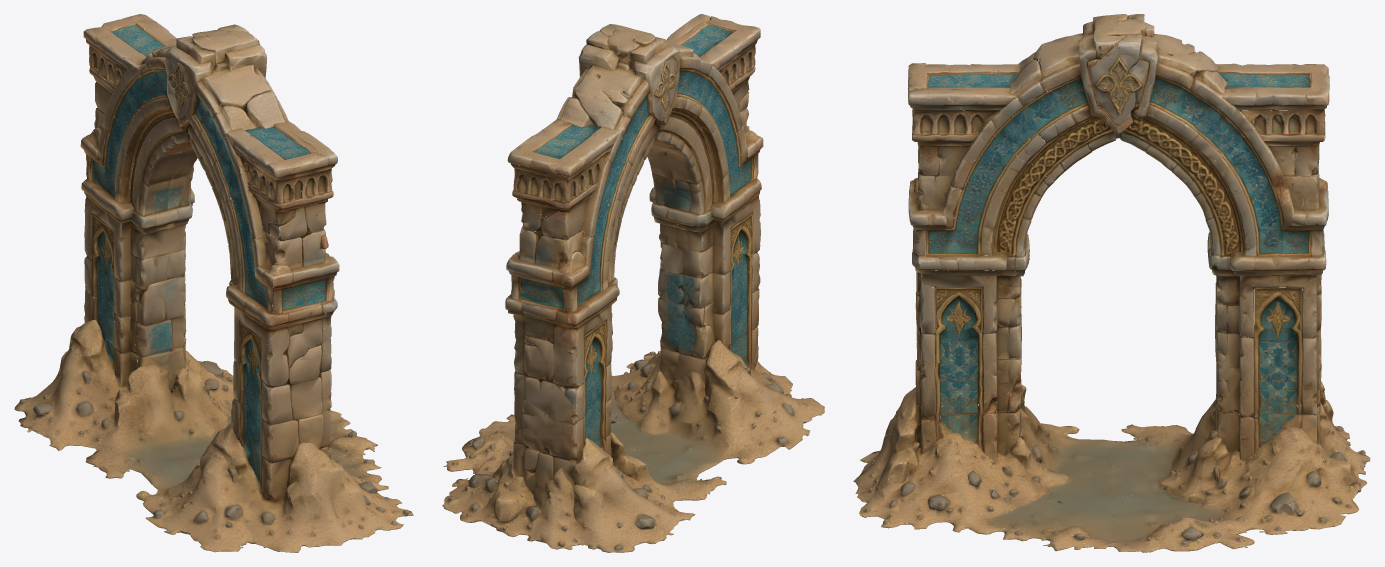
File: sunken-arch-tripo.glb
3 renders of one model, left to right at view 1: azimuth 30°, elevation 25°; view 2: azimuth 150°, elevation 25°; view 3: azimuth 270°, elevation 25°, orthographic. The views are drawn at different scales.
Visible parts, largest first — view 1: tripo_node_f235b97d-c3d6-44e6-abf1-08d5b7b909d5; view 2: tripo_node_f235b97d-c3d6-44e6-abf1-08d5b7b909d5; view 3: tripo_node_f235b97d-c3d6-44e6-abf1-08d5b7b909d5.
Boxes of the visible parts, x1,y1,x2,y2 form: tripo_node_f235b97d-c3d6-44e6-abf1-08d5b7b909d5: (14, 14, 413, 552); tripo_node_f235b97d-c3d6-44e6-abf1-08d5b7b909d5: (442, 14, 824, 552); tripo_node_f235b97d-c3d6-44e6-abf1-08d5b7b909d5: (853, 14, 1370, 552).
Size of the model in its own units: 0.6148 by 0.9832 by 1.
1 material, 1 textured.
